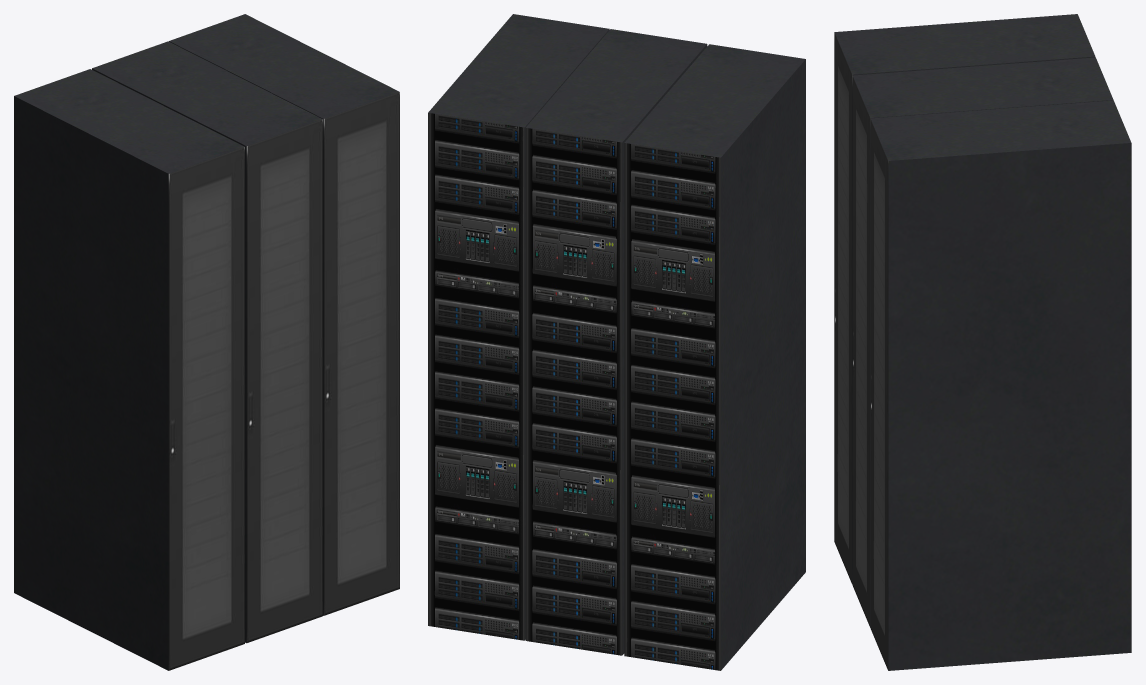
3 renders of one model, left to right at view 1: azimuth 30°, elevation 25°; view 2: azimuth 150°, elevation 25°; view 3: azimuth 270°, elevation 25°, orthographic. The views are drawn at different scales.
Parts seen in each view (by area): view 1: polySurface59, polySurface53, polySurface39; view 2: polySurface59, polySurface53, polySurface39; view 3: polySurface39, polySurface59, polySurface53.
Part boxes in pixels (bbox=[...]): polySurface59: bbox=[14, 69, 244, 670]; polySurface53: bbox=[92, 41, 322, 643]; polySurface39: bbox=[169, 14, 399, 615]; polySurface59: bbox=[624, 44, 805, 670]; polySurface53: bbox=[525, 29, 707, 655]; polySurface39: bbox=[428, 14, 609, 640]; polySurface39: bbox=[870, 100, 1131, 670]; polySurface59: bbox=[834, 14, 1095, 584]; polySurface53: bbox=[852, 57, 1113, 627].
Size of the model in its own units: 13.52 by 21.88 by 11.55.
3 materials, 3 textured.
